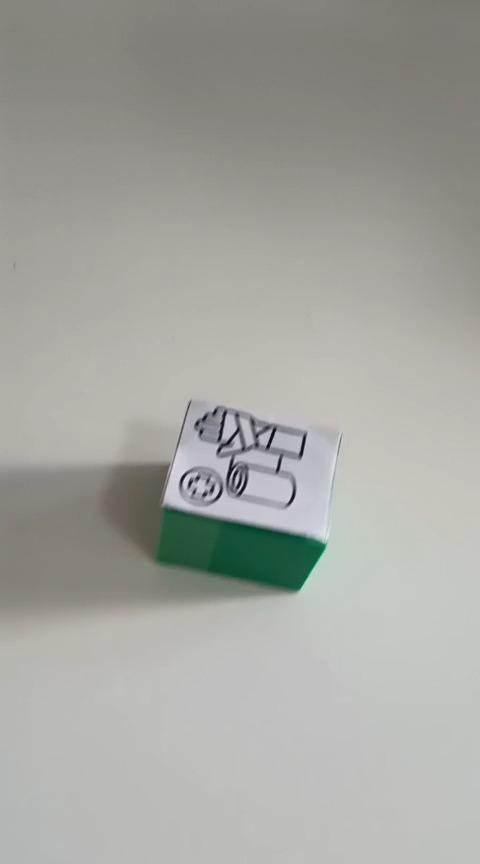Bandages: (154, 397, 342, 591)
